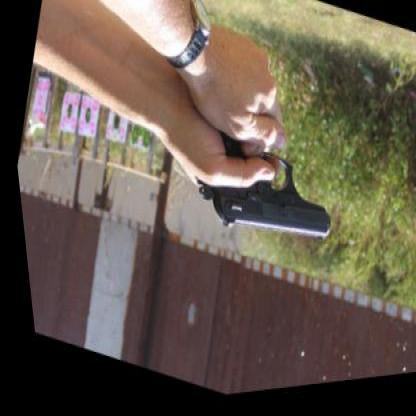pistol: (178, 116, 342, 280)
